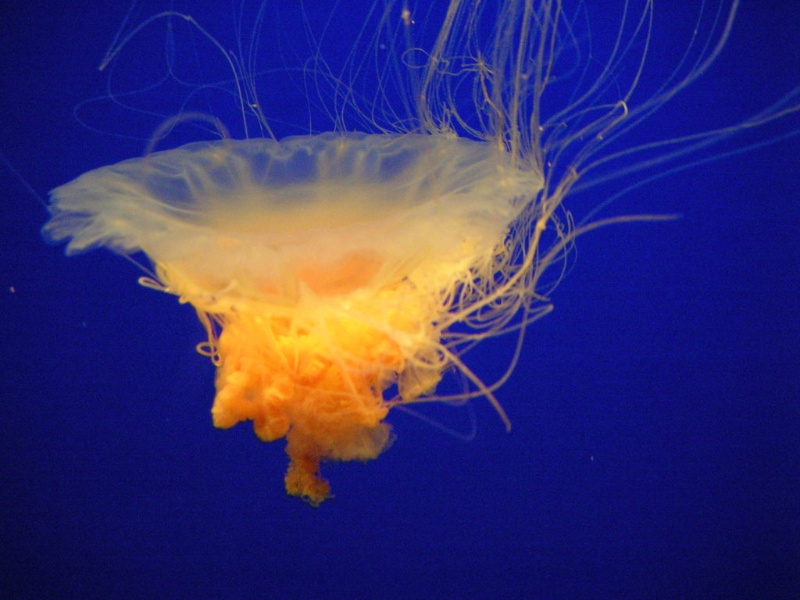Jellyfish: (36, 0, 799, 508)
